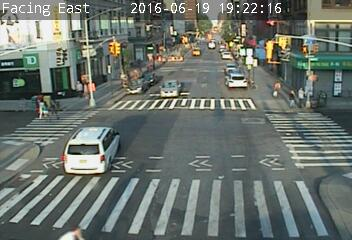neg: (148, 61, 165, 83), (171, 45, 186, 65), (161, 54, 174, 72), (138, 76, 150, 92), (185, 39, 196, 54)
pos: (26, 94, 51, 127), (267, 76, 287, 102), (45, 99, 64, 124), (282, 86, 299, 109), (296, 83, 312, 105)
